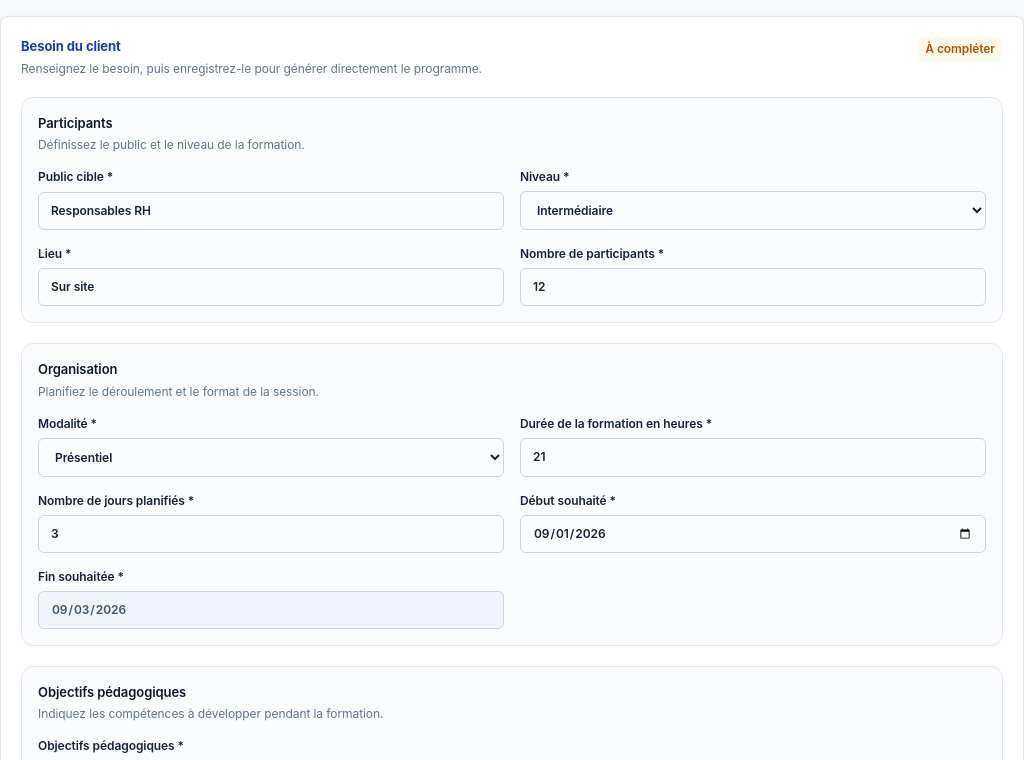
Scenario: Besoin du client › encadre le nombre de participants quand il n’est pas un entier
Step 1. Replace the text in the number field labelled "Nombre de participants" with "10.5" → point(753, 287), box top-left (520, 268), bottom-right (986, 306)
(page scrolled)
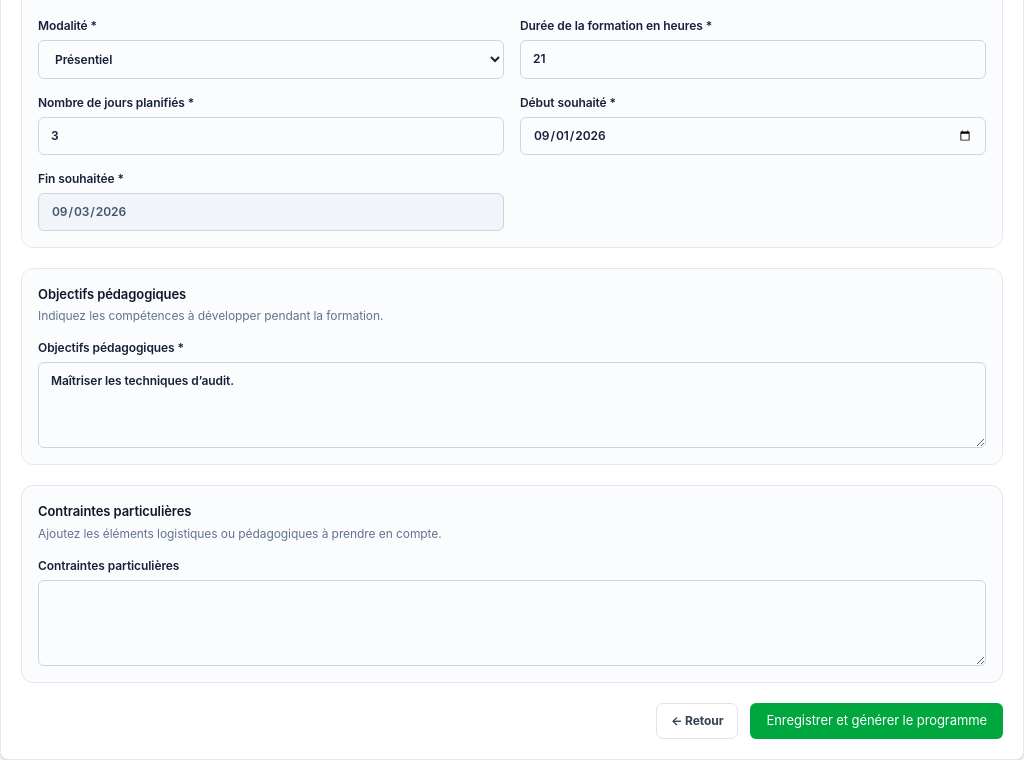
Step 2. Click the button "Enregistrer et générer le programme" → point(877, 720), box top-left (750, 702), bottom-right (1003, 738)
(page scrolled)
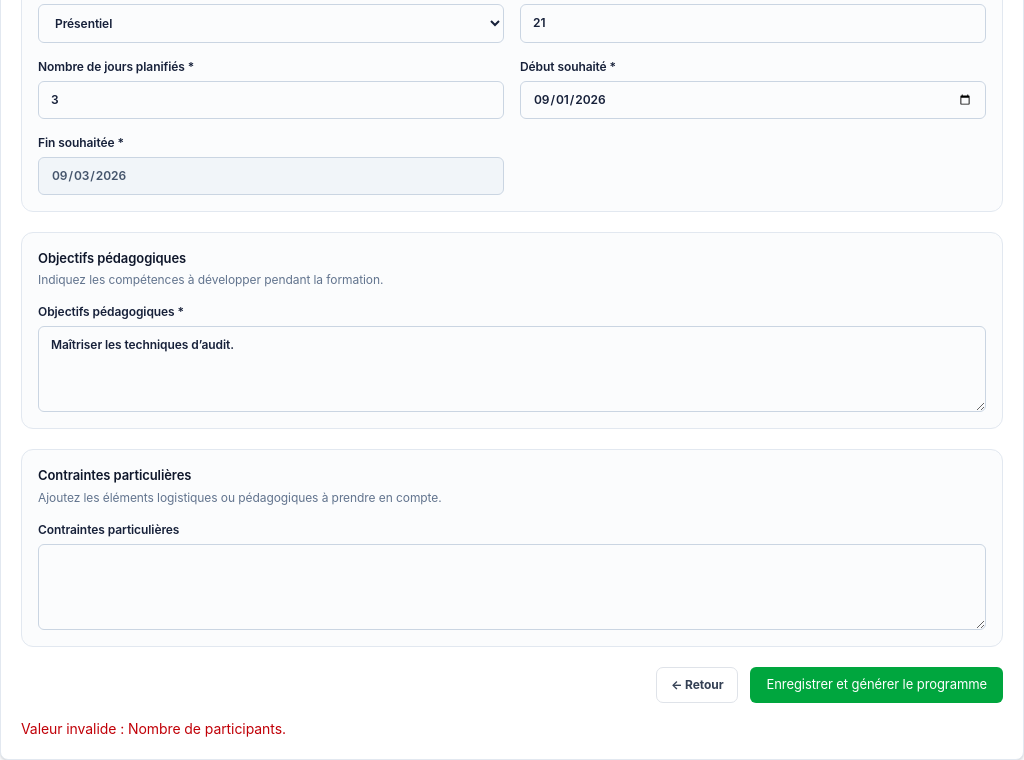
Expected: the message reads "Valeur invalide : Nombre de participants.", top-left (21, 720), bottom-right (286, 736)
